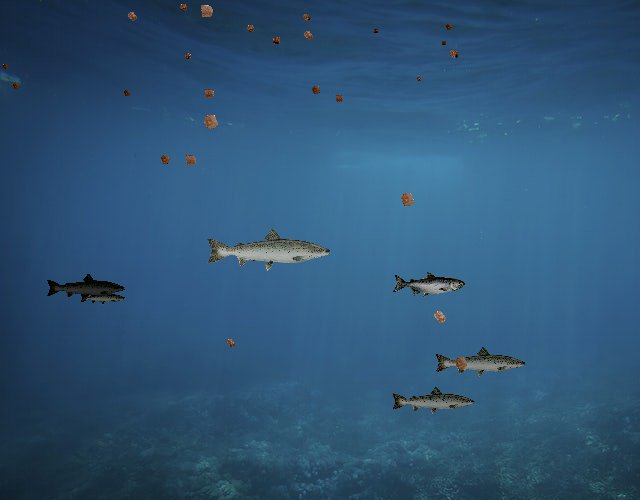Fish: (204, 226, 333, 272), (433, 346, 527, 380), (390, 385, 476, 416), (46, 273, 127, 302), (393, 271, 466, 298), (79, 290, 126, 307)
Pellet: (196, 106, 226, 136), (426, 304, 453, 331), (448, 350, 473, 376), (179, 148, 202, 171), (180, 49, 195, 64), (120, 86, 134, 100)
